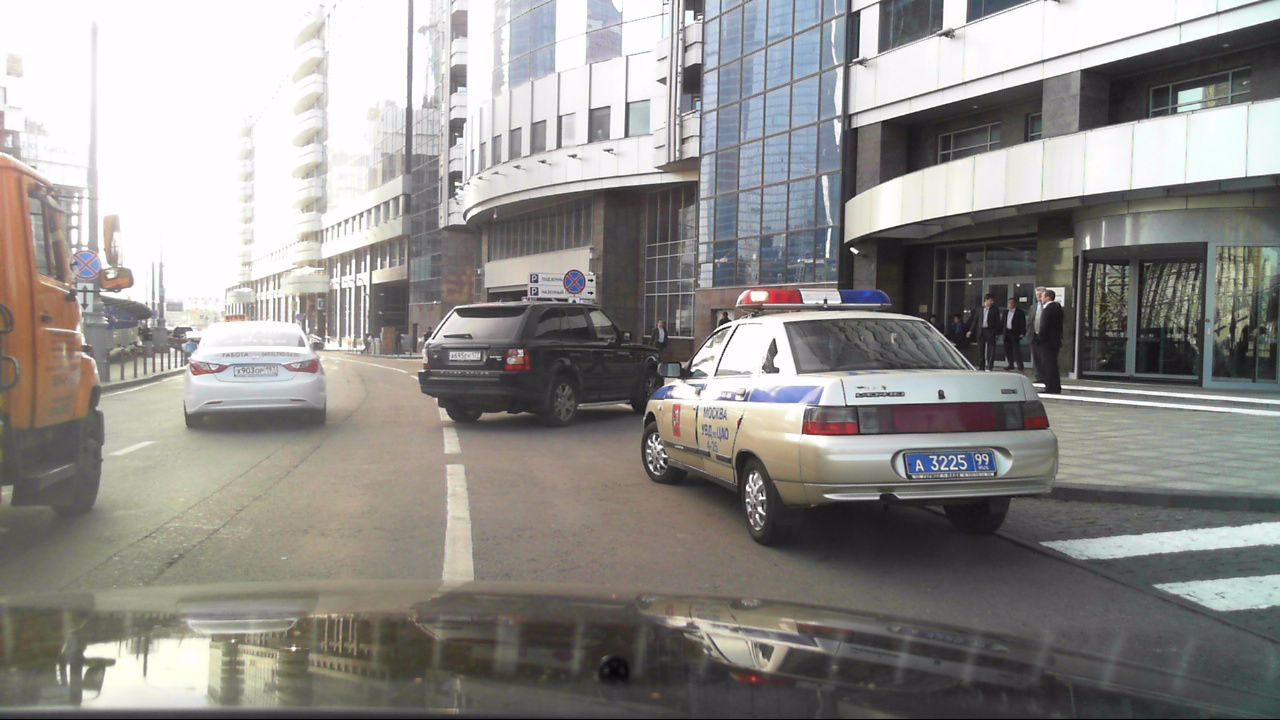No Parking: (561, 267, 587, 297)
